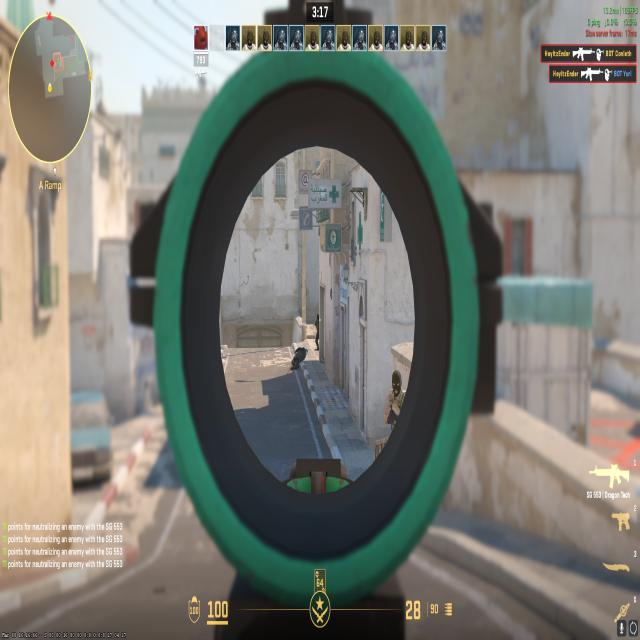ct: (312, 313, 321, 353)
t: (378, 366, 406, 439)
